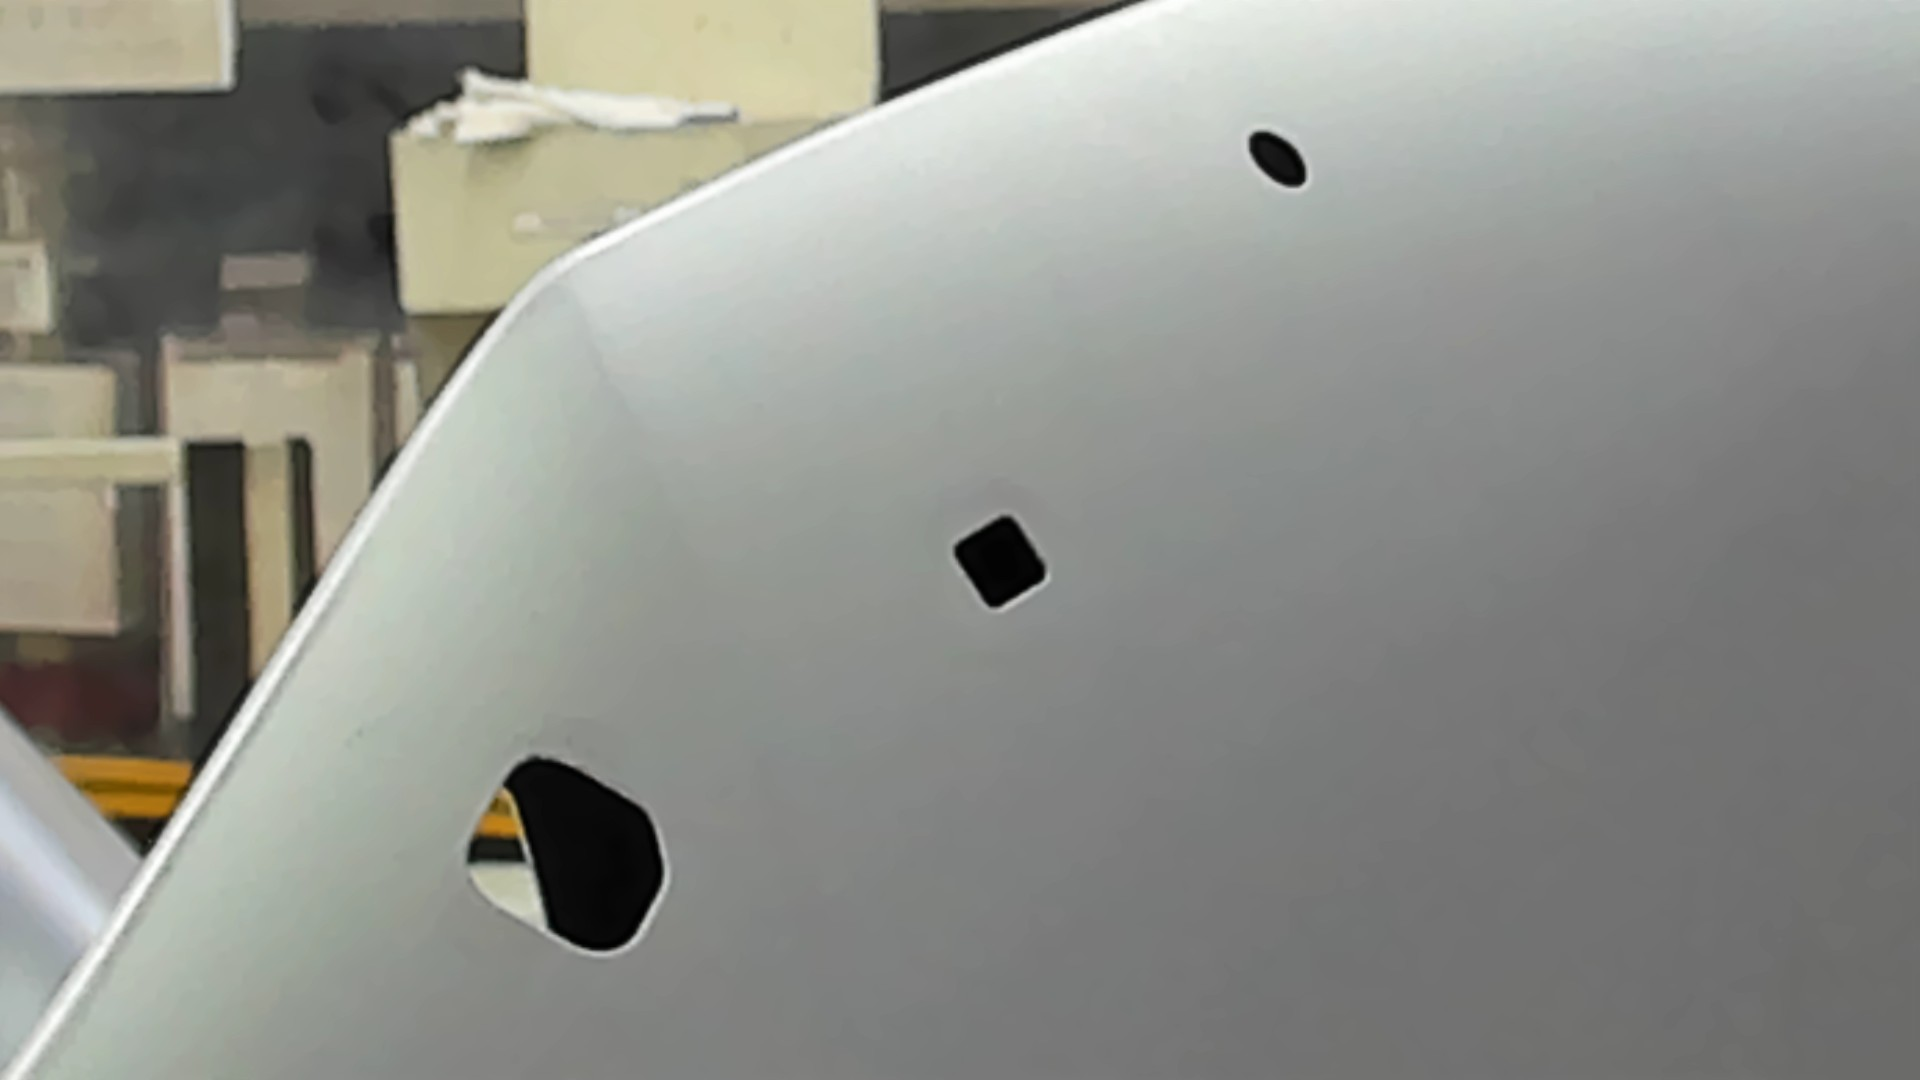chico: (1246, 123, 1307, 189)
grande: (452, 746, 678, 968)
mediano: (943, 502, 1059, 620)
